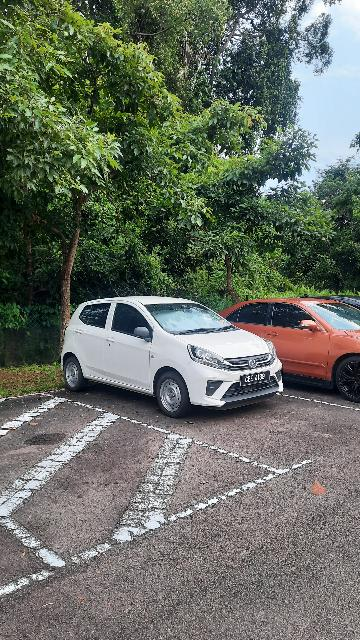License_Plate: (241, 372, 273, 389)
car: (61, 295, 287, 419), (210, 297, 360, 403)
